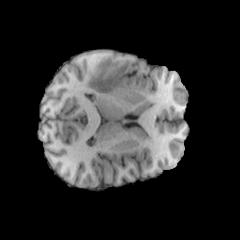glioma: (87, 58, 129, 93)
